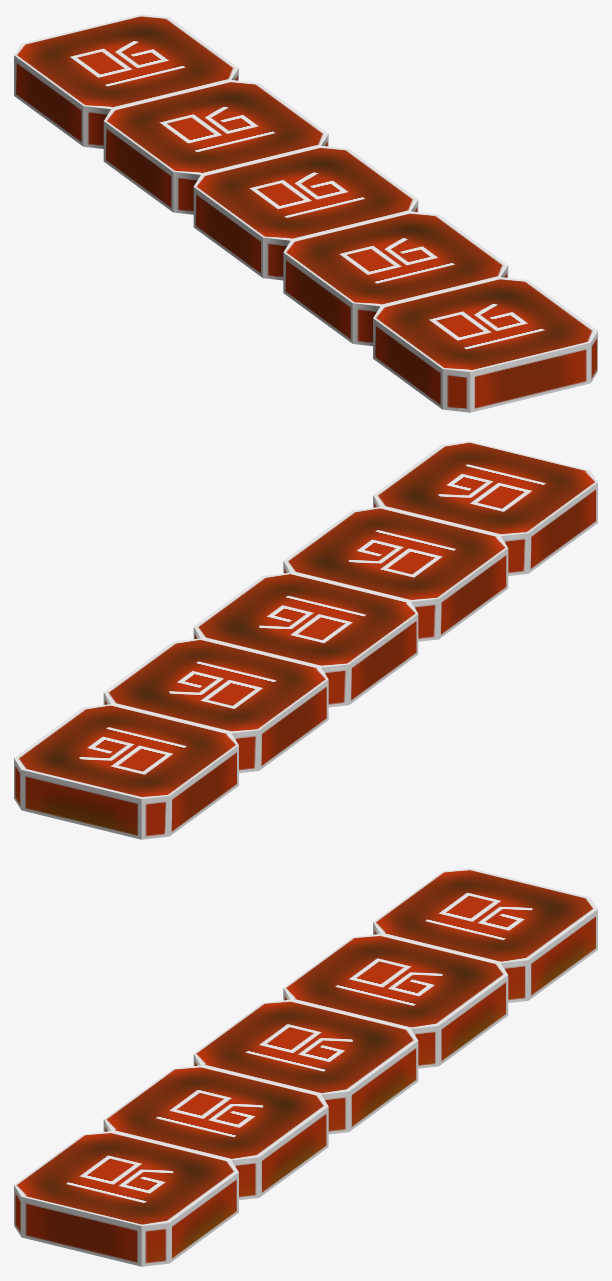
Rendered from MG-ChJ-CS-06PingTaiKuai-5B.FBX.
3 renders of one model, top to bottom at view 1: azimuth 30°, elevation 25°; view 2: azimuth 150°, elevation 25°; view 3: azimuth 330°, elevation 25°, orthographic.
Parts seen in each view (by area): view 1: MG-ChJ-CS-06PingTai-5B; view 2: MG-ChJ-CS-06PingTai-5B; view 3: MG-ChJ-CS-06PingTai-5B.
Boxes of the visible parts, x1=… form: MG-ChJ-CS-06PingTai-5B: x1=14, y1=14, x2=597, y2=412; MG-ChJ-CS-06PingTai-5B: x1=14, y1=441, x2=597, y2=839; MG-ChJ-CS-06PingTai-5B: x1=14, y1=868, x2=597, y2=1266.
Size of the model in its own units: 39.37 by 9.84 by 197.
